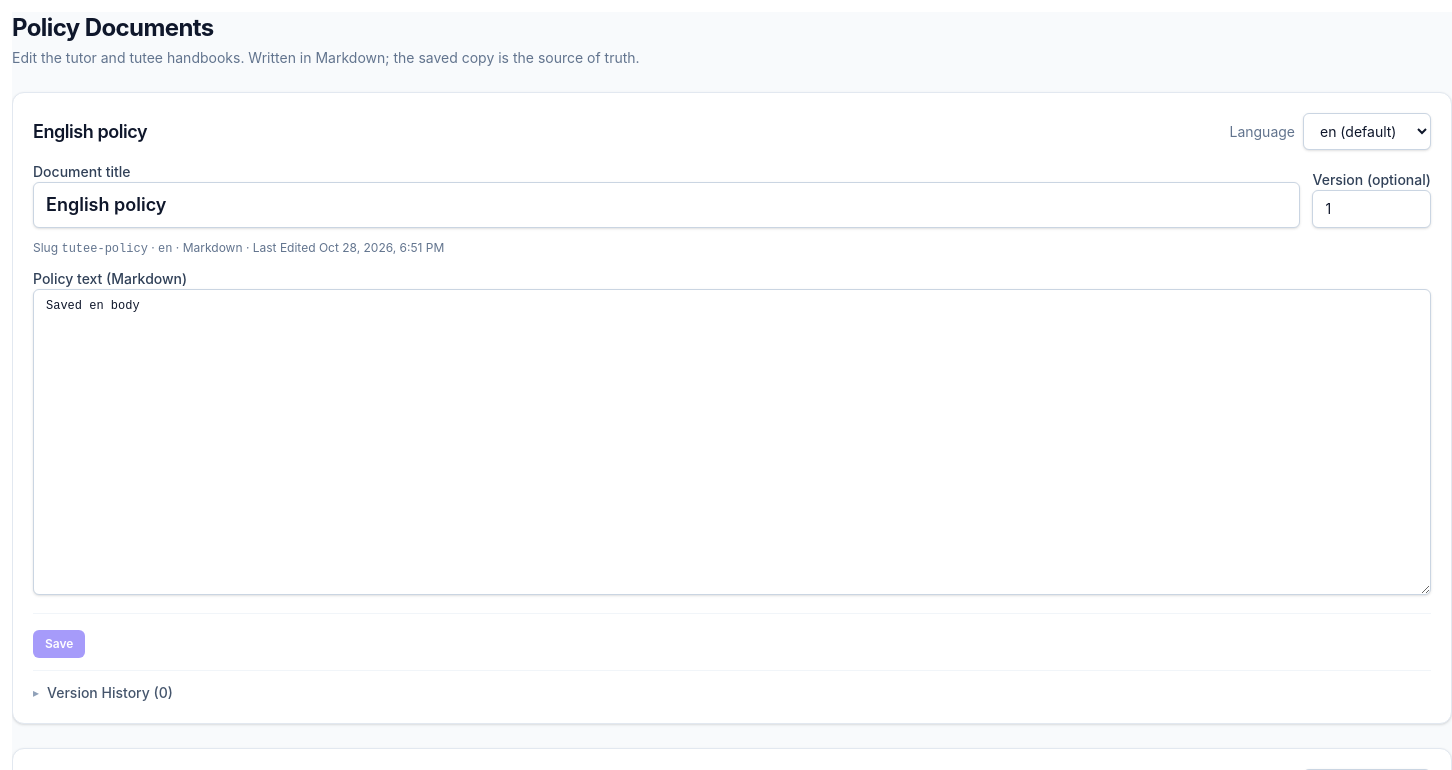
recovers an accepted locale removal without repeating Delete
Select "zh" in the dropdown labelled "Language" in the row of "English policy" at coordinates (1367, 132), box [1303,113,1431,150]
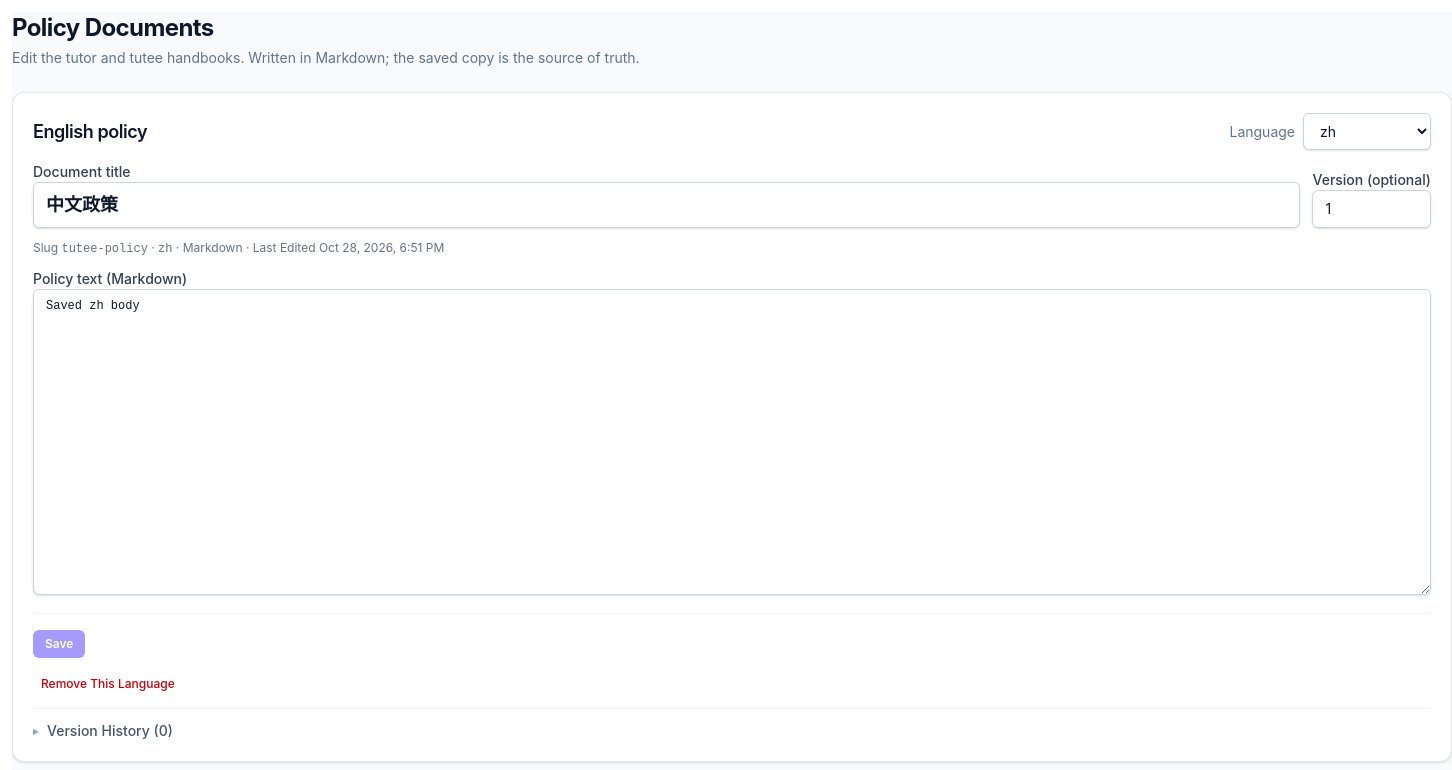
Click the button "Remove This Language".
click(108, 684)  # box [33,672,183,696]
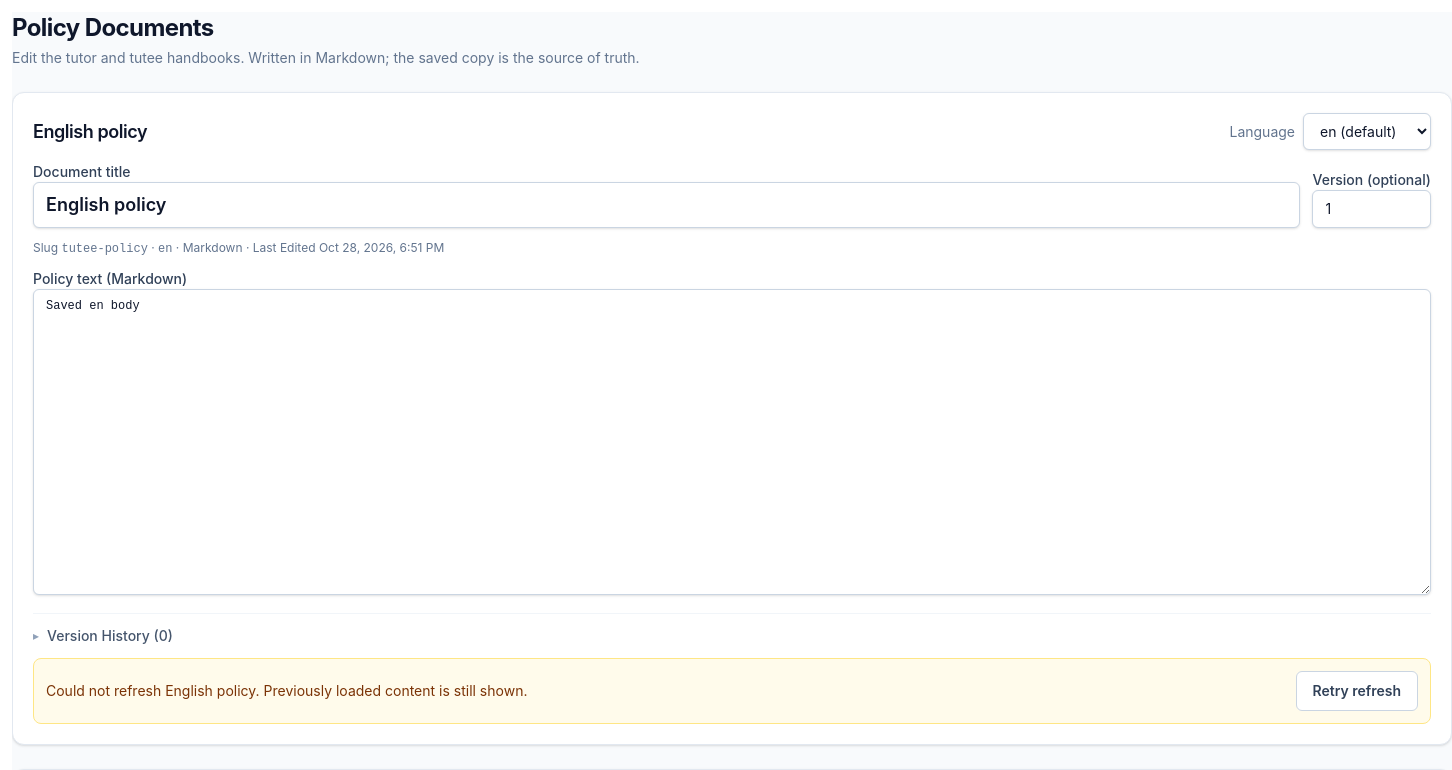
Click the button "Retry refresh".
click(1357, 691)  # box [1296,671,1418,711]
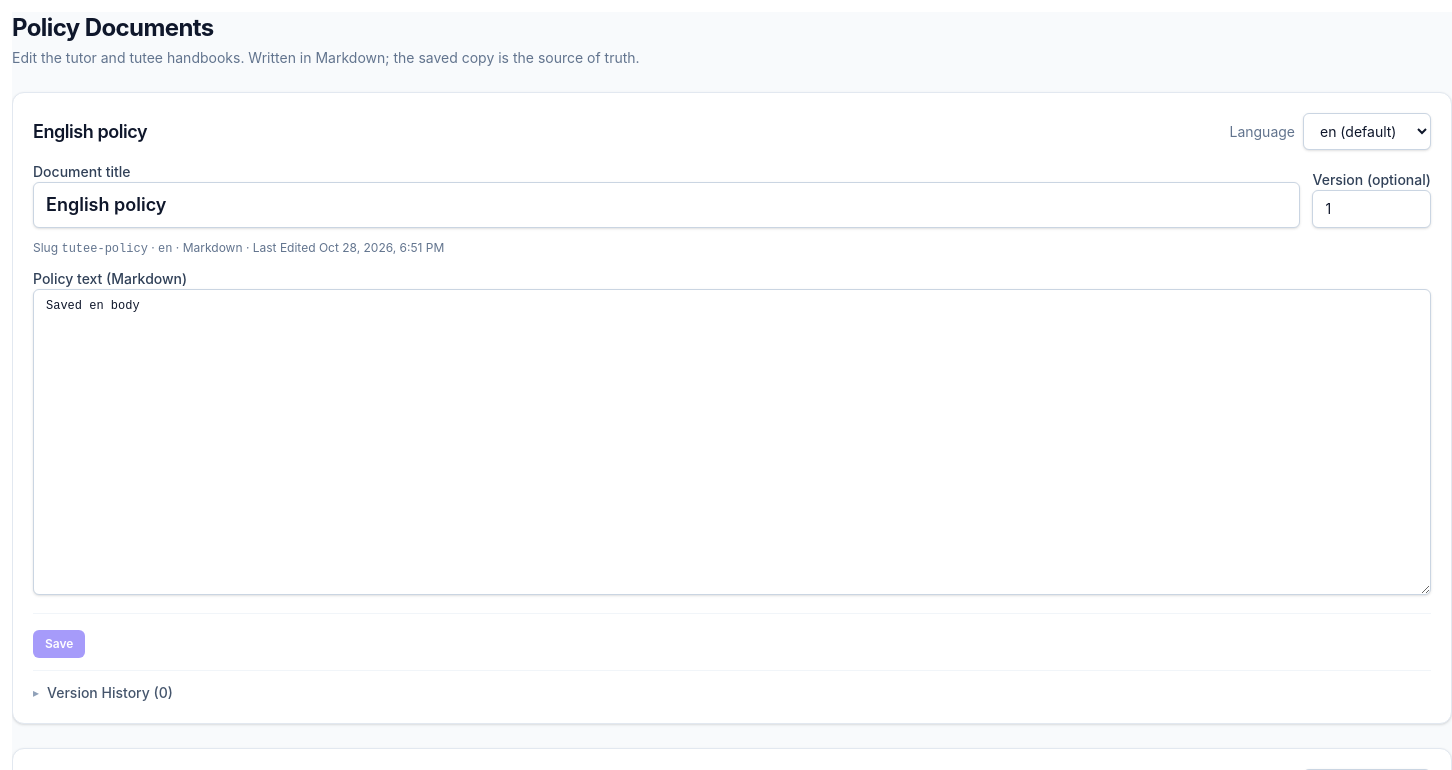
Expected: the message is gone
